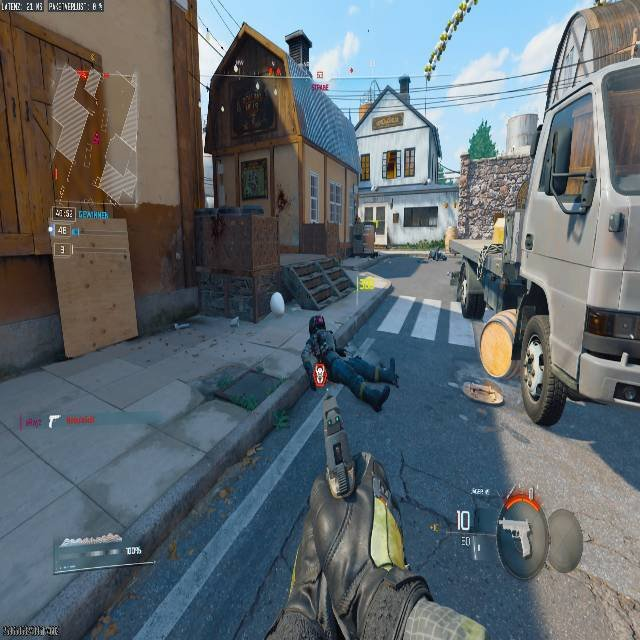player: (301, 314, 398, 469)
